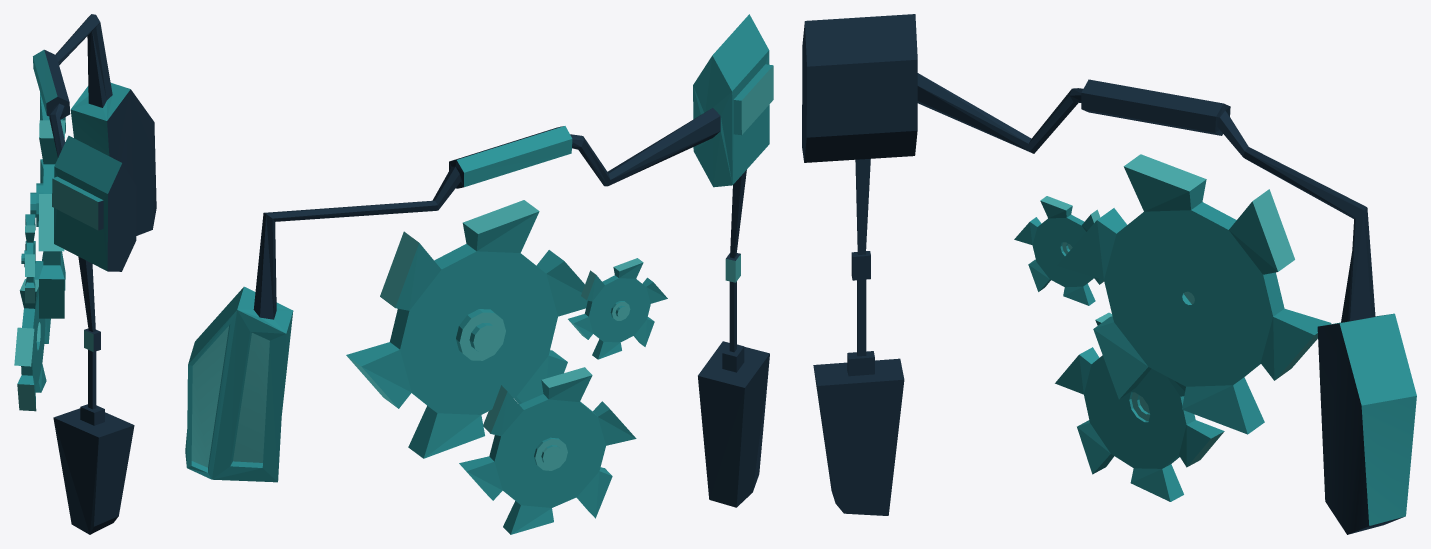
File: room-1.FBX
3 views of the same model, side by side, from view 1: azimuth 30°, elevation 25°; view 2: azimuth 150°, elevation 25°; view 3: azimuth 270°, elevation 25° (orthographic). The views are drawn at different scales.
Visible parts, largest first — view 1: Cylinder009; view 2: Cylinder009; view 3: Cylinder009.
Boxes of the visible parts, x1=… form: Cylinder009: x1=14, y1=14, x2=156, y2=534; Cylinder009: x1=185, y1=14, x2=773, y2=534; Cylinder009: x1=802, y1=14, x2=1416, y2=534.
Size of the model in its own units: 8.89 by 11.42 by 12.79.
